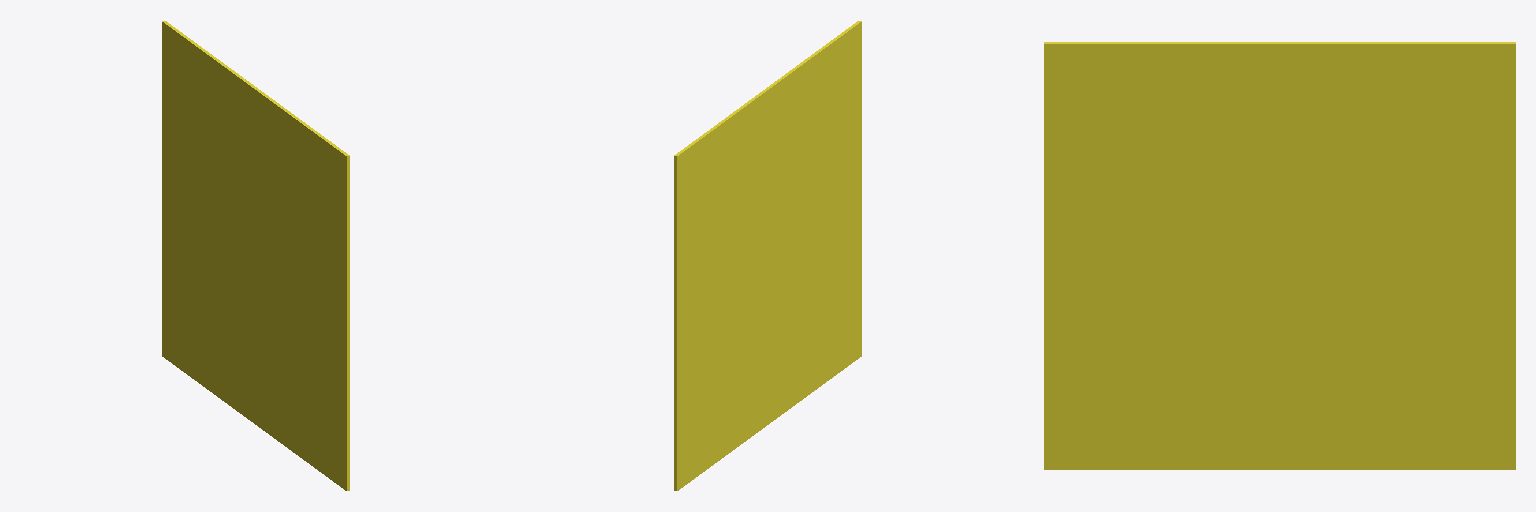
The robot description file, URDF, robot "camera":
<?xml version='1.0' encoding='utf-8'?>
<robot name="camera">
  <link name="world" />
  <joint name="world_fixed" type="fixed">
    <parent link="world" />
    <child link="base" />
  </joint>
  <link name="base" />
  <link name="link_camera">
    <inertial>
      <origin xyz="0 0 0" rpy="0 0 0" />
      <mass value="0.10811" />
      <inertia ixx="9.0129E-05" ixy="-1.0891E-08" ixz="9.1598E-09" iyy="9.2026E-05" iyz="-2.749E-07" izz="0.00017818" />
    </inertial>
    <visual>
      <origin xyz="0 0 0" rpy="0 0 0" />
      <geometry>
        <mesh filename="../../third_party/Robot_Digital_Twin/gazebo/meshes/eoat/femto_bolt.stl" />
      </geometry>
      <material name="">
        <color rgba="0.15 0.15 0.15 1.0" />
      </material>
    </visual>
    <collision>
      <origin xyz="0 0 0" rpy="0 0 0" />
      <geometry>
        <mesh filename="../../third_party/Robot_Digital_Twin/gazebo/meshes/eoat/femto_bolt.stl" />
      </geometry>
    </collision>
  </link>
  <link name="link_camera_origin">
    <collision>
      <origin xyz="0 0 0" rpy="0 0 0" />
      <geometry>
        <box size="0.0001 0.0001 0.0001" />
      </geometry>
    </collision>
    <visual>
      <origin xyz="0 0 0" rpy="0 0 0" />
      <geometry>
        <box size="0.0001 0.01 0.01" />
      </geometry>
    </visual>
    <inertial>
      <mass value="1e-5" />
      <origin xyz="0 0 0" rpy="0 0 0" />
      <inertia ixx="1e-6" ixy="0" ixz="0" iyy="1e-6" iyz="0" izz="1e-6" />
    </inertial>
  </link>
  <joint name="precam_camera" type="fixed">
    <origin xyz="0 0 0" rpy="0 0 0" />
    <parent link="base" />
    <child link="link_camera" />
  </joint>
  <joint name="camera_imgplane" type="fixed">
    <origin xyz="0.045 0 0" rpy="0 0 0" />
    <parent link="link_camera" />
    <child link="link_camera_origin" />
  </joint>
  <gazebo reference="link_camera_origin">
    <sensor name="$depth_camera" type="depth">
      <update_rate>30</update_rate>
      <camera>
        <horizontal_fov>1.39626340156</horizontal_fov>
        <image>
          <width>3840</width>
          <height>2160</height>
          <format>R8G8B8</format>
        </image>
        <clip>
          <near>0.005</near>
          <far>2</far>
        </clip>
      </camera>
      <plugin name="$depth_camera_controller" filename="libgazebo_ros_openni_kinect.so">
        <baseline>0.2</baseline>
        <alwaysOn>true</alwaysOn>
        <updateRate>0</updateRate>
        <cameraName>fixed_camera</cameraName>
        <frameName>depth_camera_link</frameName>
        <pointCloudCutoff>0.005</pointCloudCutoff>
        <pointCloudCutoffMax>2.0</pointCloudCutoffMax>
        <distortionK1>0</distortionK1>
        <distortionK2>0</distortionK2>
        <distortionK3>0</distortionK3>
        <distortionT1>0</distortionT1>
        <distortionT2>0</distortionT2>
        <CxPrime>0</CxPrime>
        <Cx>0</Cx>
        <Cy>0</Cy>
        <focalLength>0</focalLength>
        <hackBaseline>0</hackBaseline>
      </plugin>
    </sensor>
  </gazebo>
  <gazebo reference="link_camera_origin">
    <material>Gazebo/Black</material>
    <visual>
      <transparency> 0 </transparency>
    </visual>
  </gazebo>
</robot>

--- What the picture shows (computed from the rendered views, not written in the file) ---
3 views of the same robot in one strip: view 1: azimuth 30°, elevation 25°; view 2: azimuth 150°, elevation 25°; view 3: azimuth 270°, elevation 25° (orthographic).
Robot: camera — 4 links, 3 joints (3 fixed); root link world; default pose: all joints at 0.
Links seen in each view (by area): view 1: link_camera_origin; view 2: link_camera_origin; view 3: link_camera_origin.
Link boxes in pixels (<box>): link_camera_origin: <box>162,21,349,490</box>; link_camera_origin: <box>674,21,861,490</box>; link_camera_origin: <box>1044,42,1515,469</box>.
Bounding box of the posed robot: 0.0001 × 0.01 × 0.01 m (x, y, z).
0 mesh visuals loaded from 1 distinct referenced files (none loaded); not drawn: 1 (reference not matched to a file when rendering).
